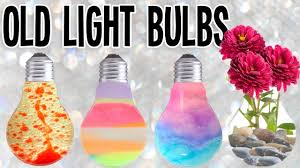bulb: (75, 69, 153, 168), (5, 73, 78, 168), (154, 70, 224, 168)
